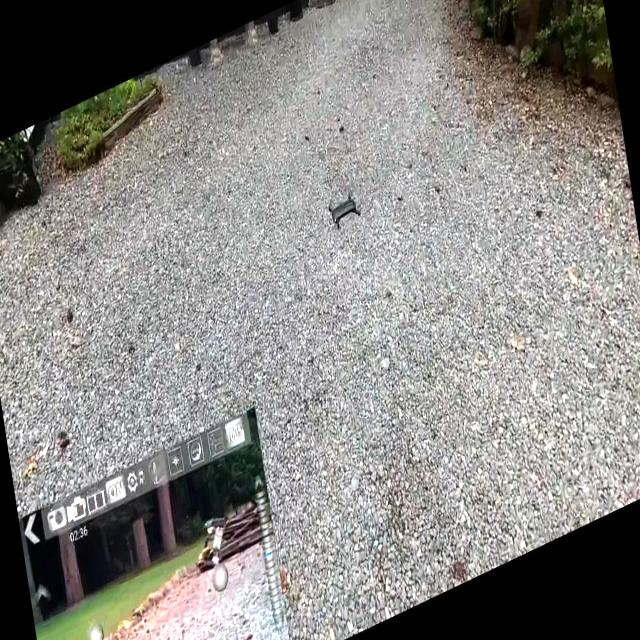drone: (321, 180, 367, 239)
